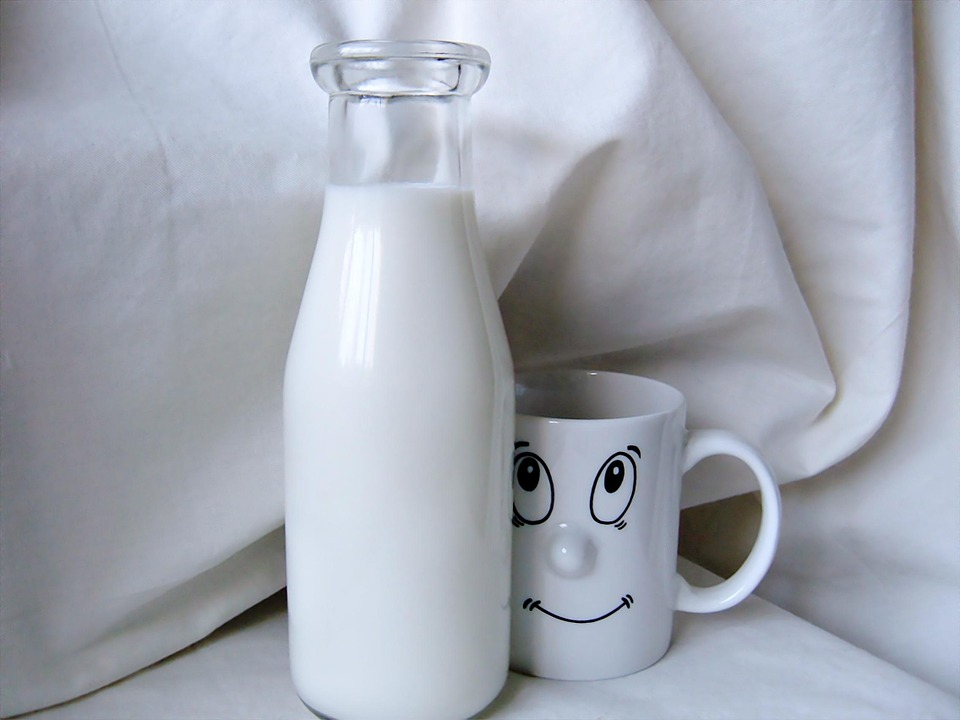glass of milk: (274, 93, 521, 720)
